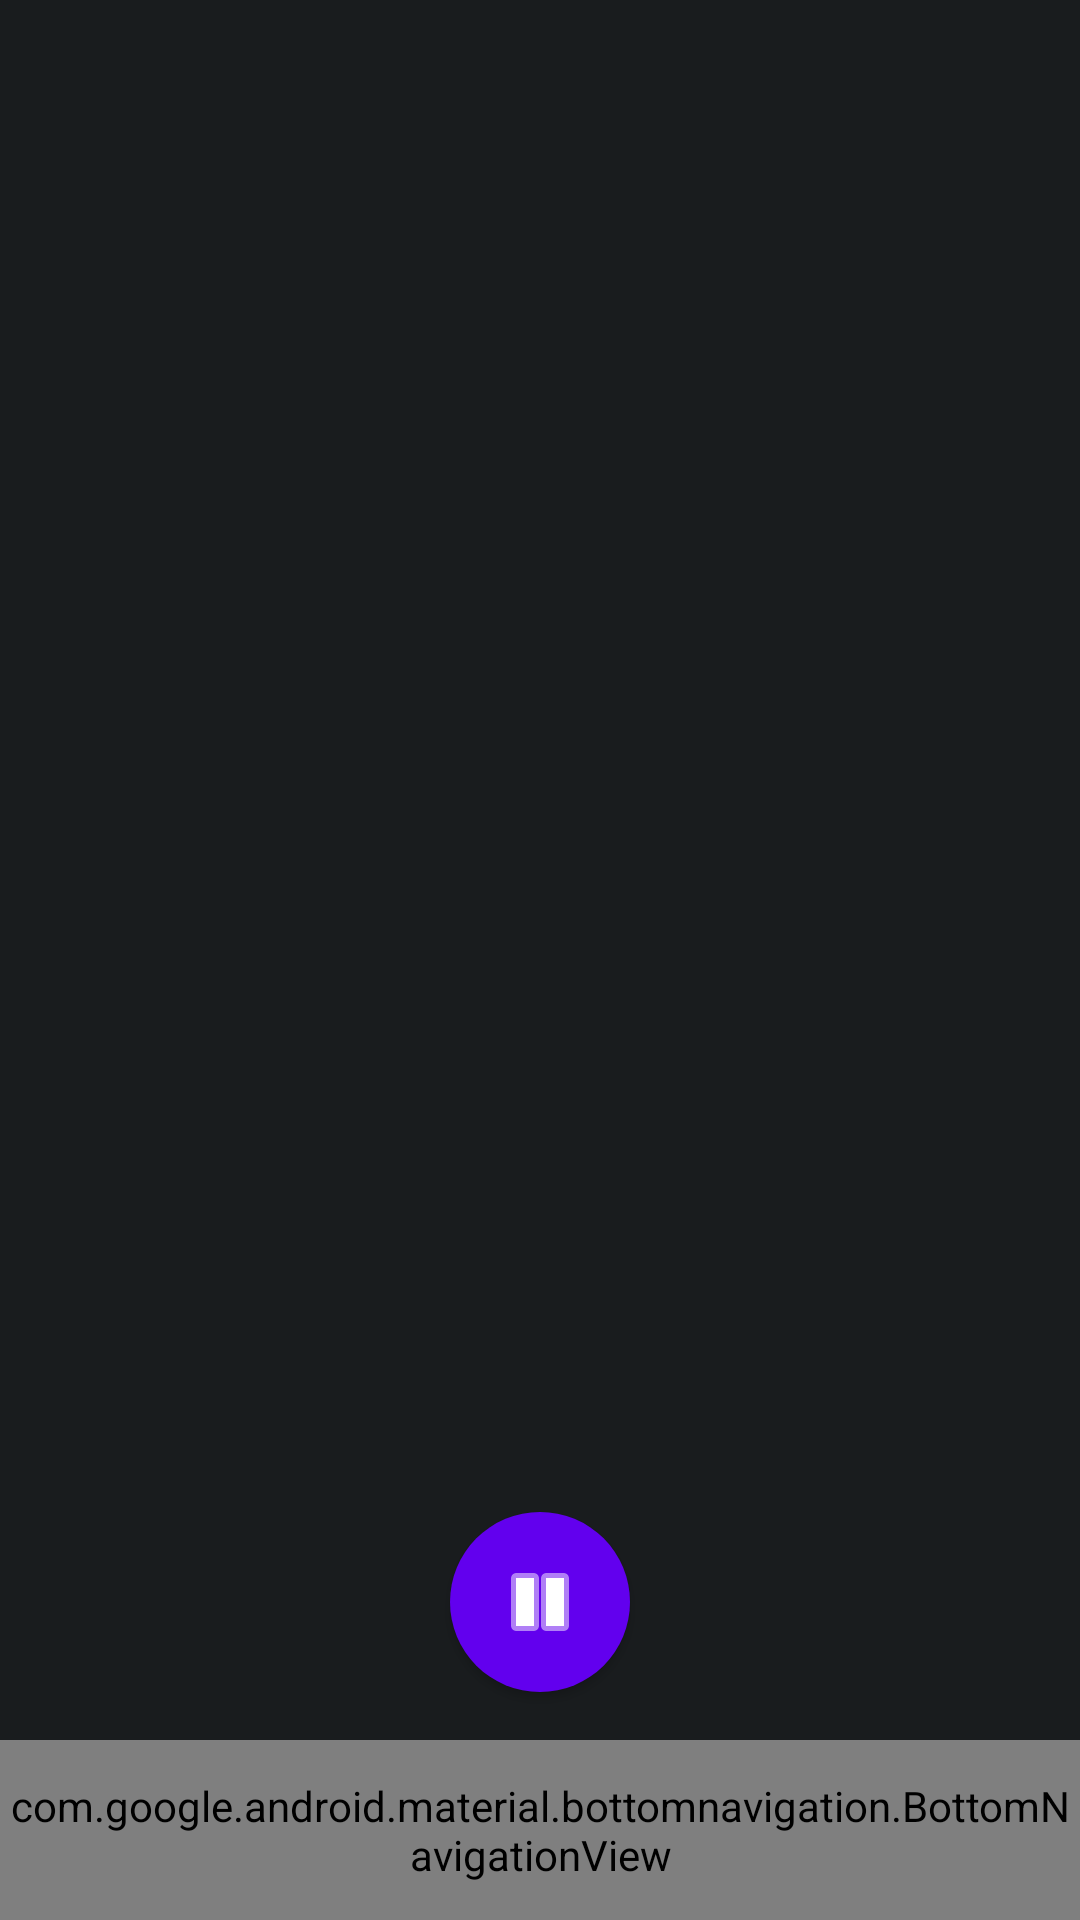

Locate icon controls on the screen. Image size 1080x1920, boxes as (x1, y1, x2, y2).
Pause: (450, 1512, 630, 1692)
